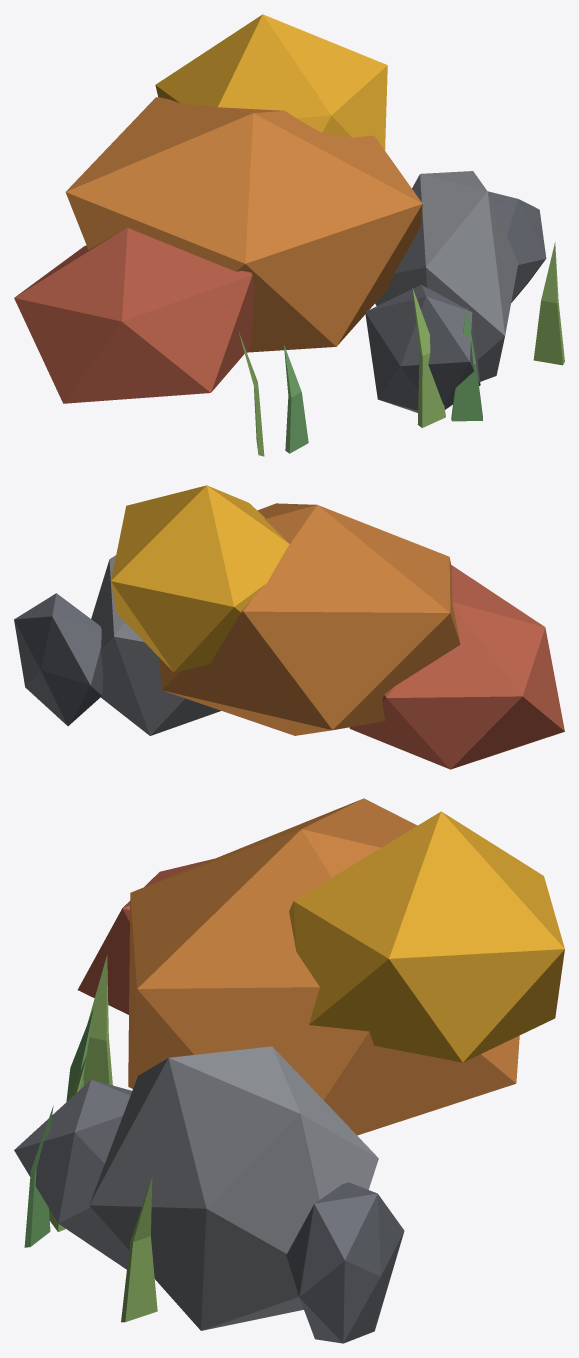
Rendered from Cozy_Bush_05_AutumnRockBush.fbx.
3 renders of one model, top to bottom at view 1: azimuth 30°, elevation 25°; view 2: azimuth 150°, elevation 25°; view 3: azimuth 270°, elevation 25°, orthographic. The views are drawn at different scales.
Visible parts, largest first — view 1: Cozy_Bush_05_AutumnRockBush; view 2: Cozy_Bush_05_AutumnRockBush; view 3: Cozy_Bush_05_AutumnRockBush.
Boxes of the visible parts, left/top/right/bottom form: Cozy_Bush_05_AutumnRockBush: left=14, top=14, right=564, bottom=456; Cozy_Bush_05_AutumnRockBush: left=14, top=485, right=564, bottom=769; Cozy_Bush_05_AutumnRockBush: left=14, top=798, right=564, bottom=1343.
Size of the model in its own units: 1.74 by 1.03 by 1.2.
